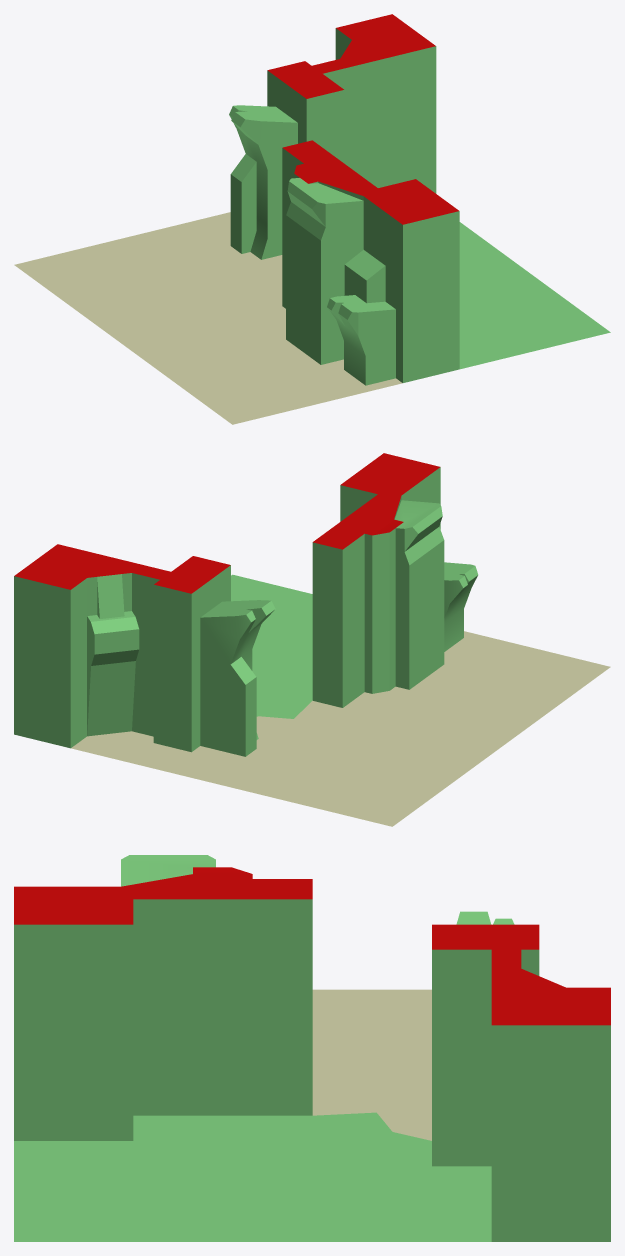
Rendered from x_oo_ground_29_wall_mirror.fbx.
3 renders of one model, top to bottom at view 1: azimuth 30°, elevation 25°; view 2: azimuth 150°, elevation 25°; view 3: azimuth 270°, elevation 25°, orthographic. The views are drawn at different scales.
Parts seen in each view (by area): view 1: x_oo_ground_29_wall_mirror1; view 2: x_oo_ground_29_wall_mirror1; view 3: x_oo_ground_29_wall_mirror1.
Boxes of the visible parts, x1,y1,x2,y2 form: x_oo_ground_29_wall_mirror1: (14, 14, 610, 424); x_oo_ground_29_wall_mirror1: (14, 453, 610, 826); x_oo_ground_29_wall_mirror1: (14, 855, 610, 1241).
Bounding box in the file's own units: 10 × 4.06 × 10.
